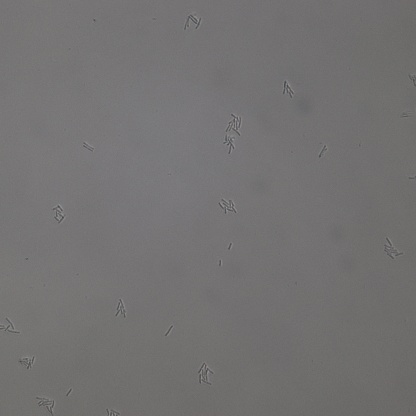R(colony): (382, 236, 403, 260), (35, 395, 57, 416), (196, 362, 214, 386), (225, 113, 244, 134), (1, 318, 19, 335), (184, 13, 203, 29), (281, 79, 296, 99), (114, 298, 128, 319), (219, 198, 238, 213), (222, 135, 236, 155), (52, 204, 66, 224), (19, 357, 34, 370)
